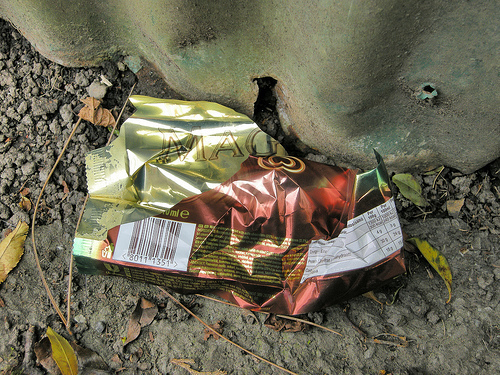litter: (68, 95, 406, 318)
